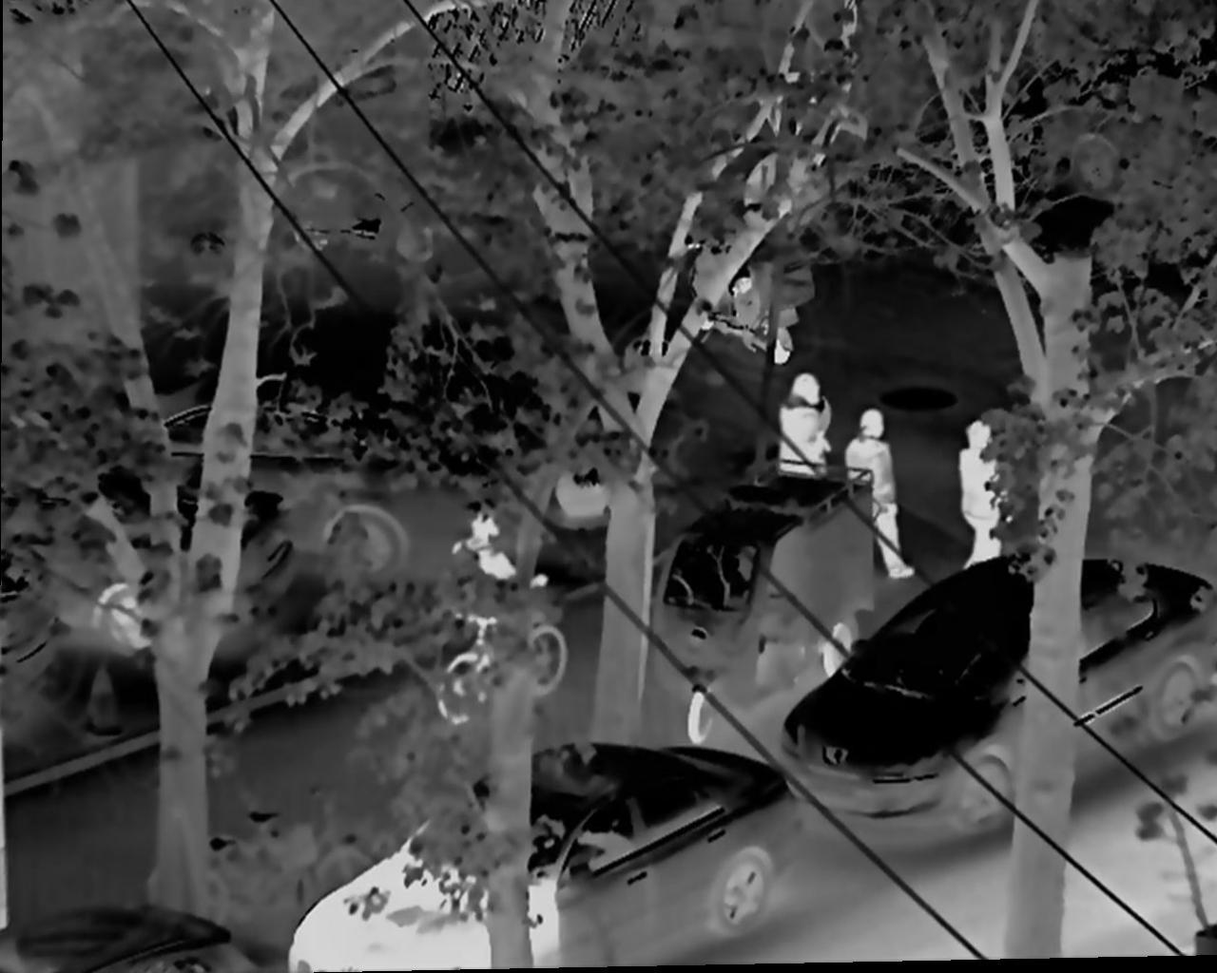person: (452, 507, 553, 673), (841, 405, 913, 582), (951, 412, 1009, 580), (773, 367, 830, 497)
